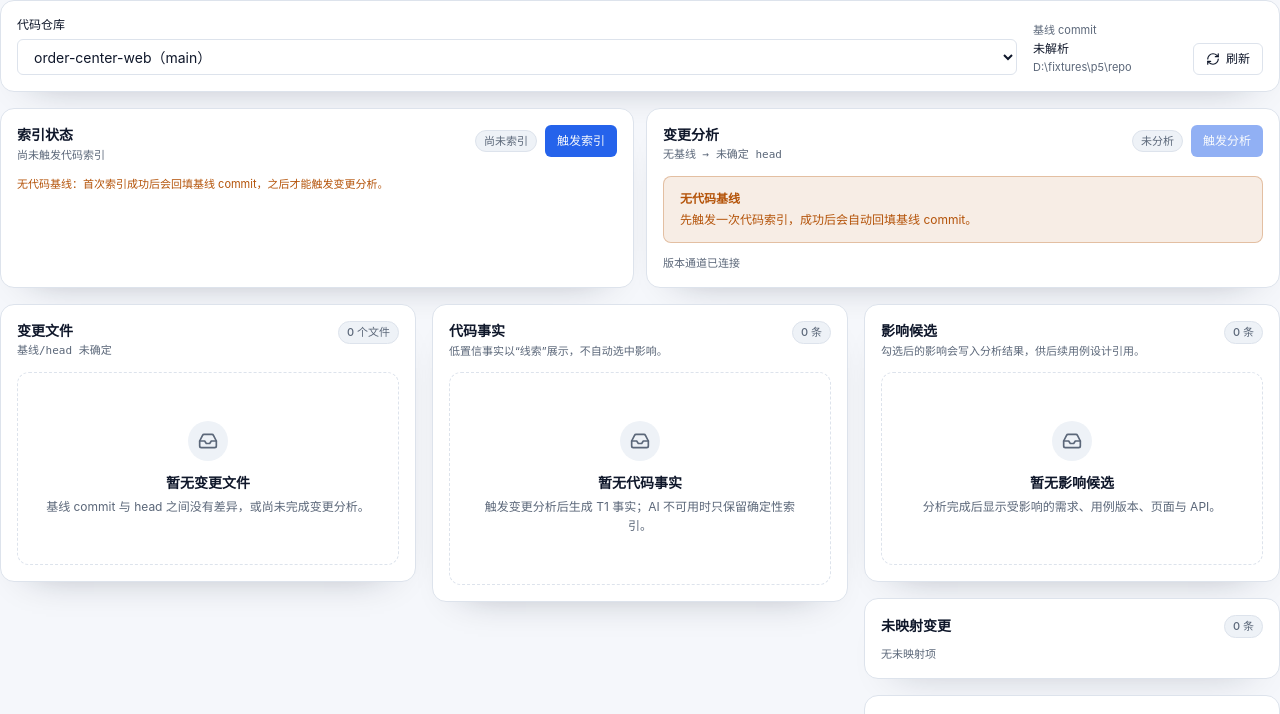
Test case: CodeTab › moves from queued to running to done through SSE refreshes
Expected: the element named "代码仓库状态" is shown, [0,0,1279,92]
Expected: the dropdown labelled "代码仓库" shows "order-center-web（main）", [17,39,1017,75]
What coordinates should you click on to do the following:
click the button "触发索引"
I would click on:
 (581, 141)
Its box is [545,125,617,157].
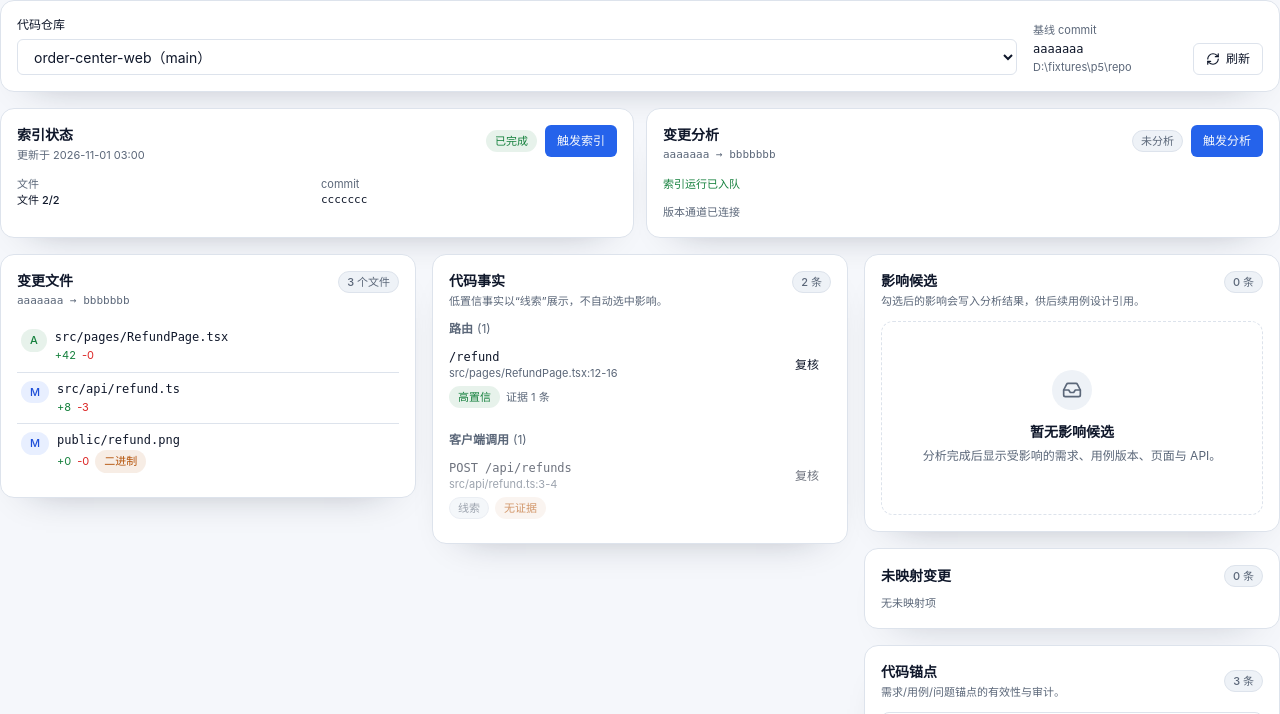
Expected: the text "文件 2/2" is shown, [17,193,60,207]
Expected: the text "已完成" is shown, [486,130,537,152]
